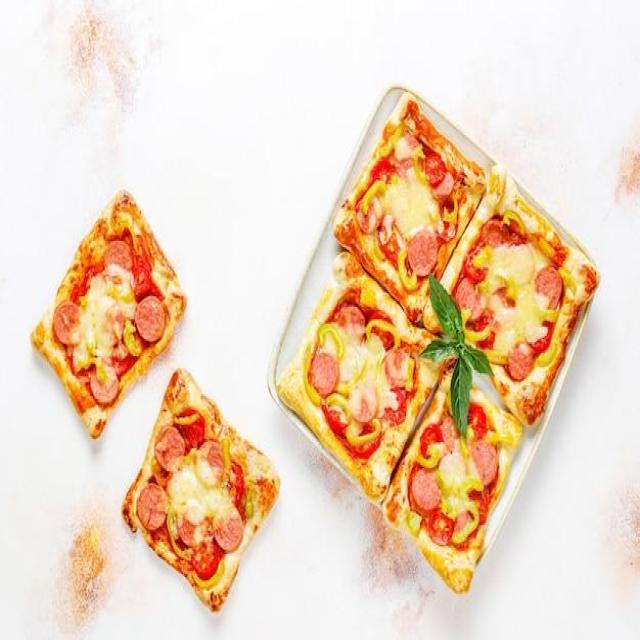basil: (419, 272, 495, 436)
pizza: (423, 164, 599, 430), (277, 252, 443, 504), (30, 190, 187, 440), (121, 370, 280, 616), (333, 92, 486, 323), (382, 366, 523, 596)
